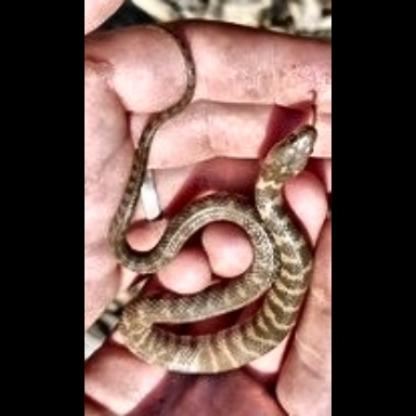Snake: (108, 122, 320, 376)
